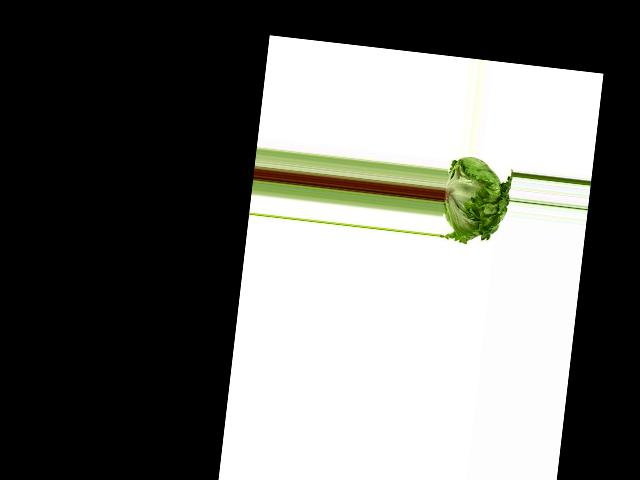lettuce: (438, 152, 513, 251)
